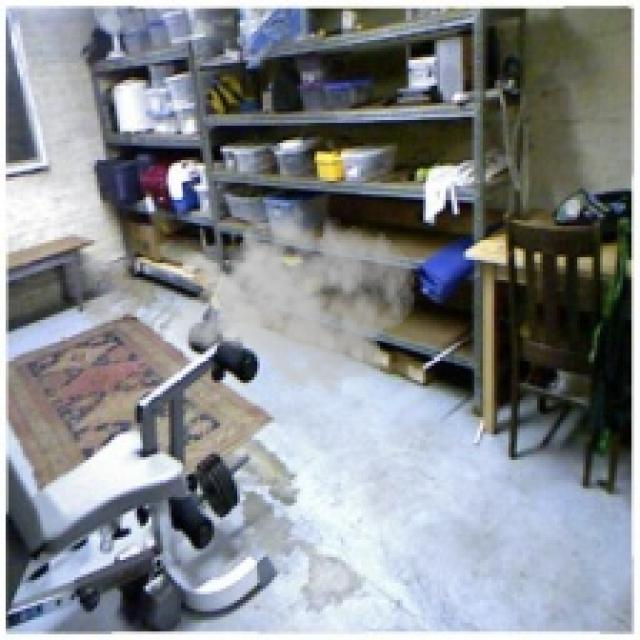smoke: (169, 194, 417, 403)
